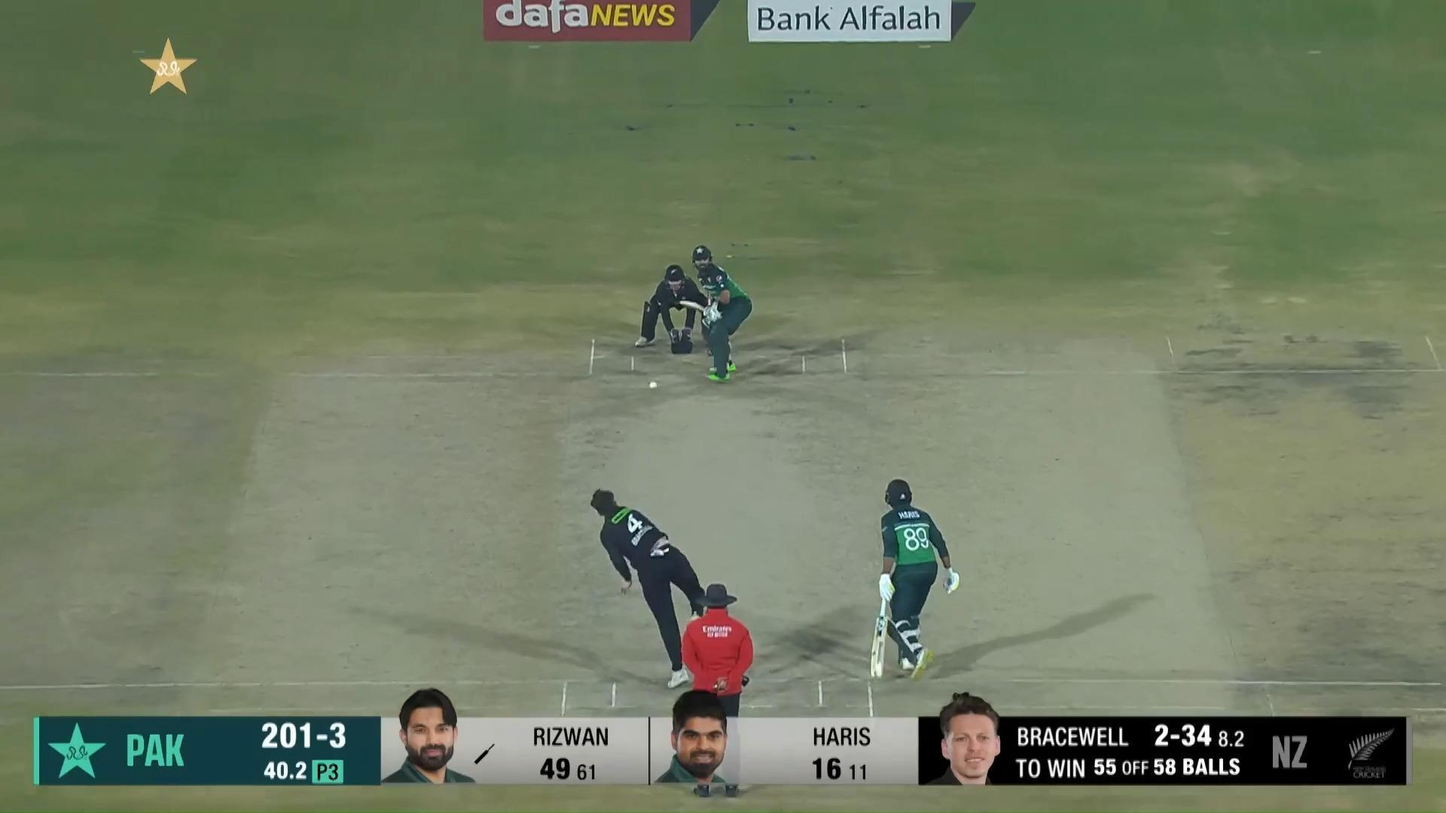BM 1: (679, 245, 754, 382)
BO: (589, 486, 711, 690)
